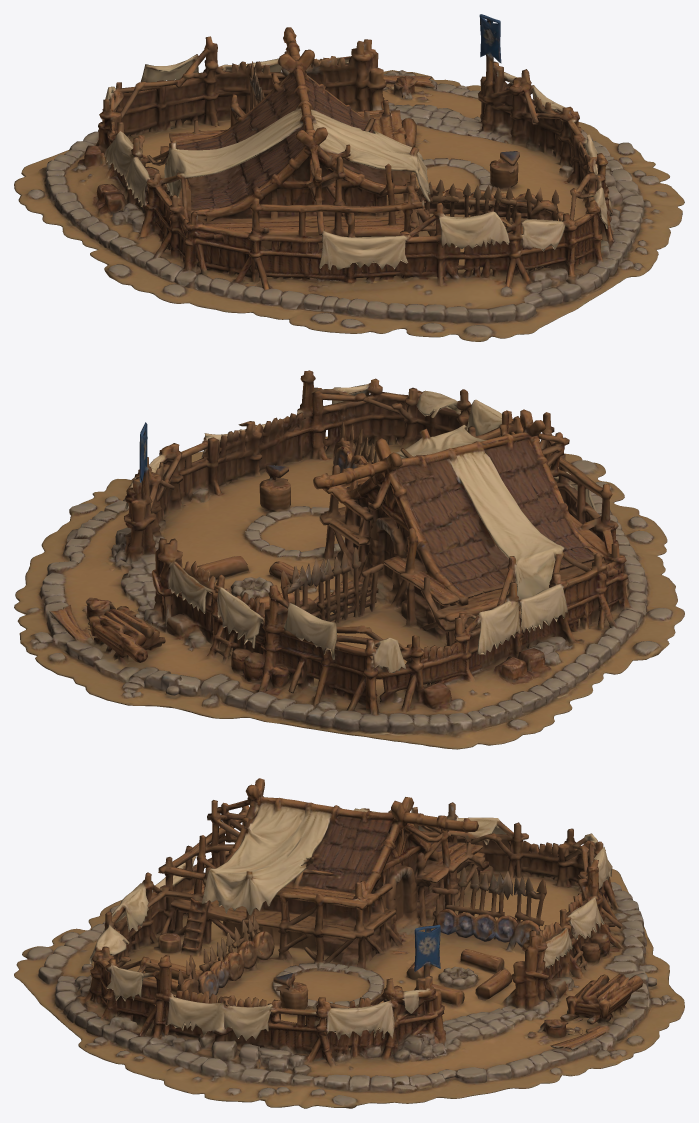
Rendered from tripo_convert_9013d614-4606-49e8-b00b-ffed02882448.fbx.
3 renders of one model, top to bottom at view 1: azimuth 30°, elevation 25°; view 2: azimuth 150°, elevation 25°; view 3: azimuth 270°, elevation 25°, orthographic. The views are drawn at different scales.
Visible parts, largest first — view 1: tripo_node_9013d614; view 2: tripo_node_9013d614; view 3: tripo_node_9013d614.
Part boxes in pixels (bbox=[...]): tripo_node_9013d614: bbox=[14, 14, 684, 341]; tripo_node_9013d614: bbox=[14, 370, 684, 749]; tripo_node_9013d614: bbox=[14, 778, 684, 1108].
Size of the model in its own units: 0.9023 by 0.2605 by 0.9805.
Materials: 1 (1 with a texture image).
